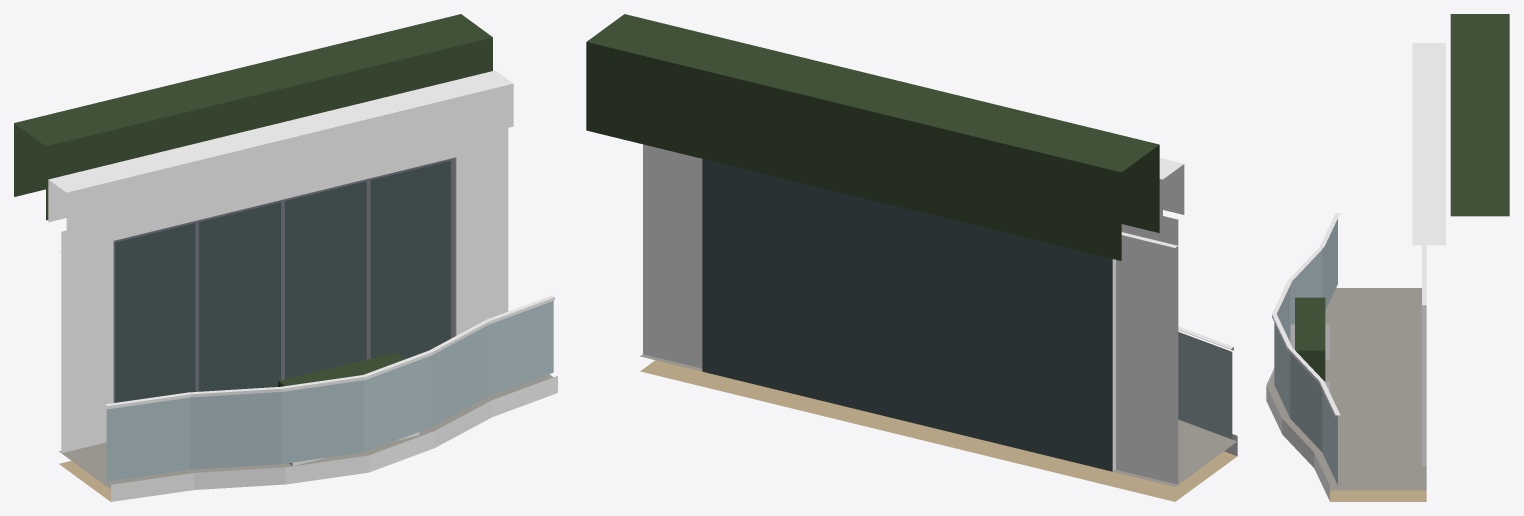
The model's file is top-w1.fbx.
3 renders of one model, left to right at view 1: azimuth 30°, elevation 25°; view 2: azimuth 150°, elevation 25°; view 3: azimuth 270°, elevation 25°, orthographic. The views are drawn at different scales.
Parts seen in each view (by area): view 1: a2019/500/top-w1; view 2: a2019/500/top-w1; view 3: a2019/500/top-w1.
Boxes of the visible parts, left/top/right/bottom form: a2019/500/top-w1: left=14, top=14, right=557, bottom=501; a2019/500/top-w1: left=586, top=14, right=1237, bottom=501; a2019/500/top-w1: left=1266, top=14, right=1509, bottom=501.
Size of the model in its own units: 6 by 3.95 by 3.05.
